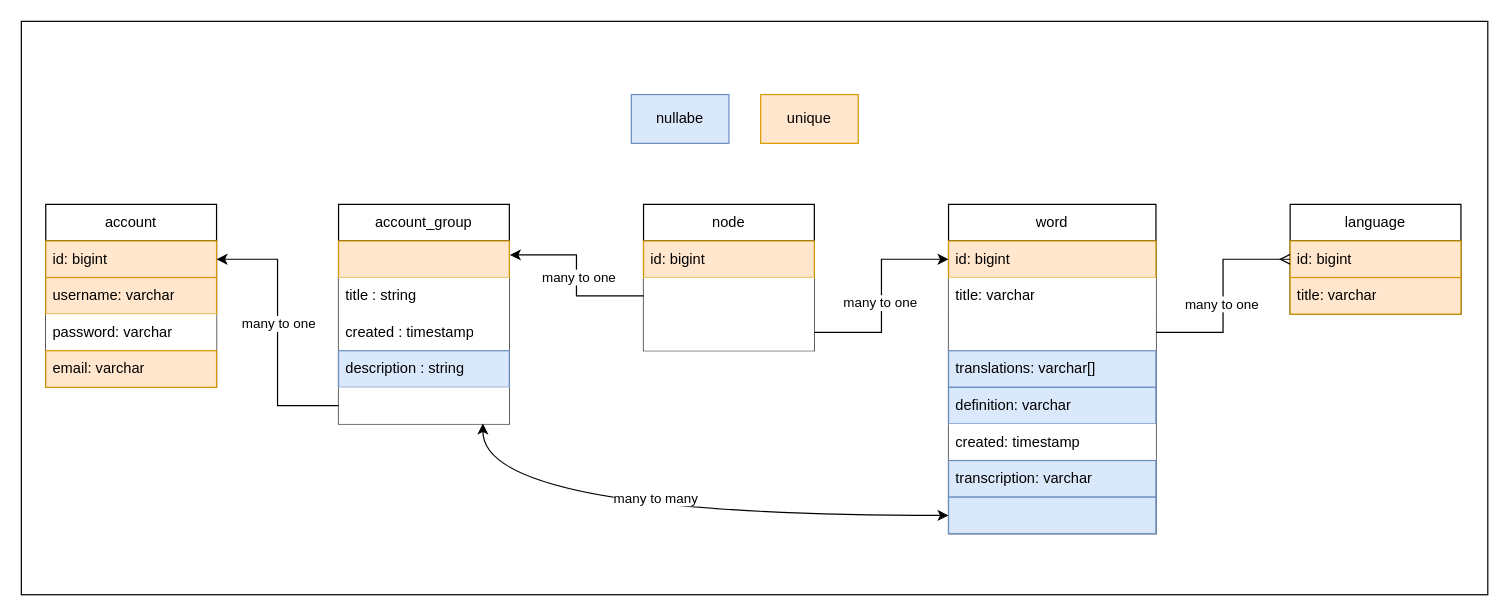
The diagram is 1509 pixels wide and 616 high, and some of its shapes have lost their labels. The shapes that lost their labels are listed below. From the top down, each one's centre as x and y in pixels, then its label:
At [423,259]: "id : bigint".
At [728,295]: "group_id: bigint".
At [728,332]: "word_id: bigint".
At [1051,332]: "language_id: bigint".
At [423,405]: "owner_id: bigint".
At [1051,515]: "description: varchar".
